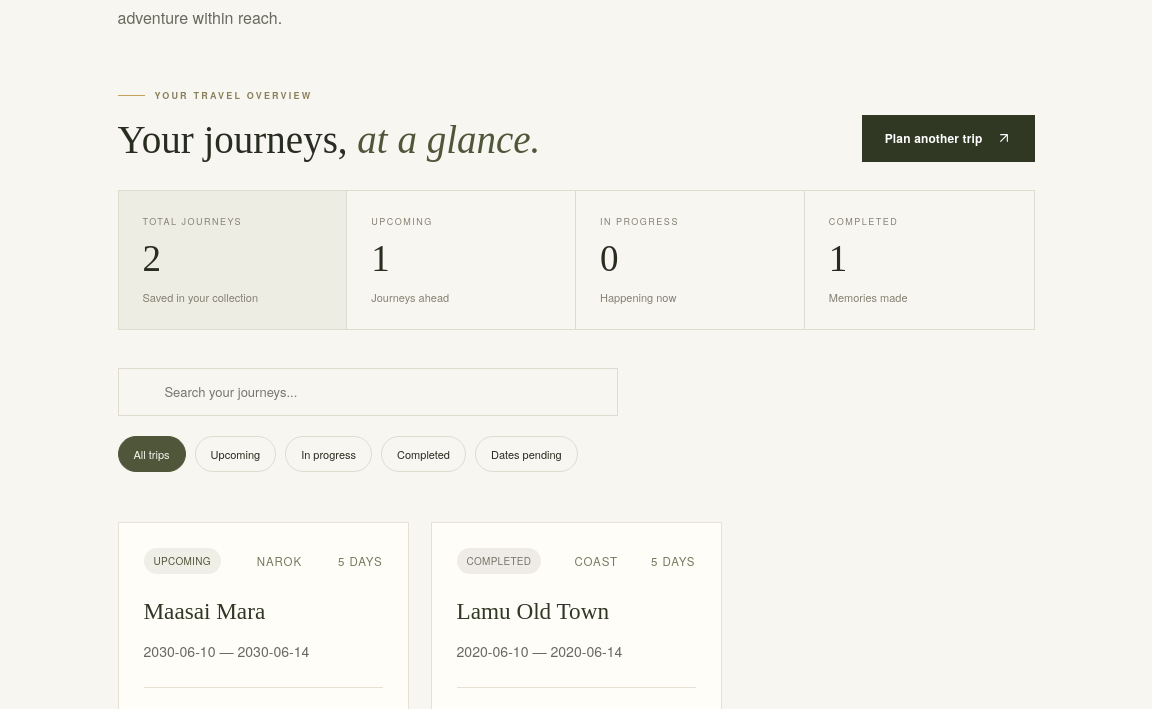
Test: App saved trips › searches and filters saved trips
(page scrolled)
Expected: the heading "Maasai Mara" is shown, [144,598,265,624]
Type "Lamu" into the search field named "search saved trips" at (382, 392), box [162,382,602,402]
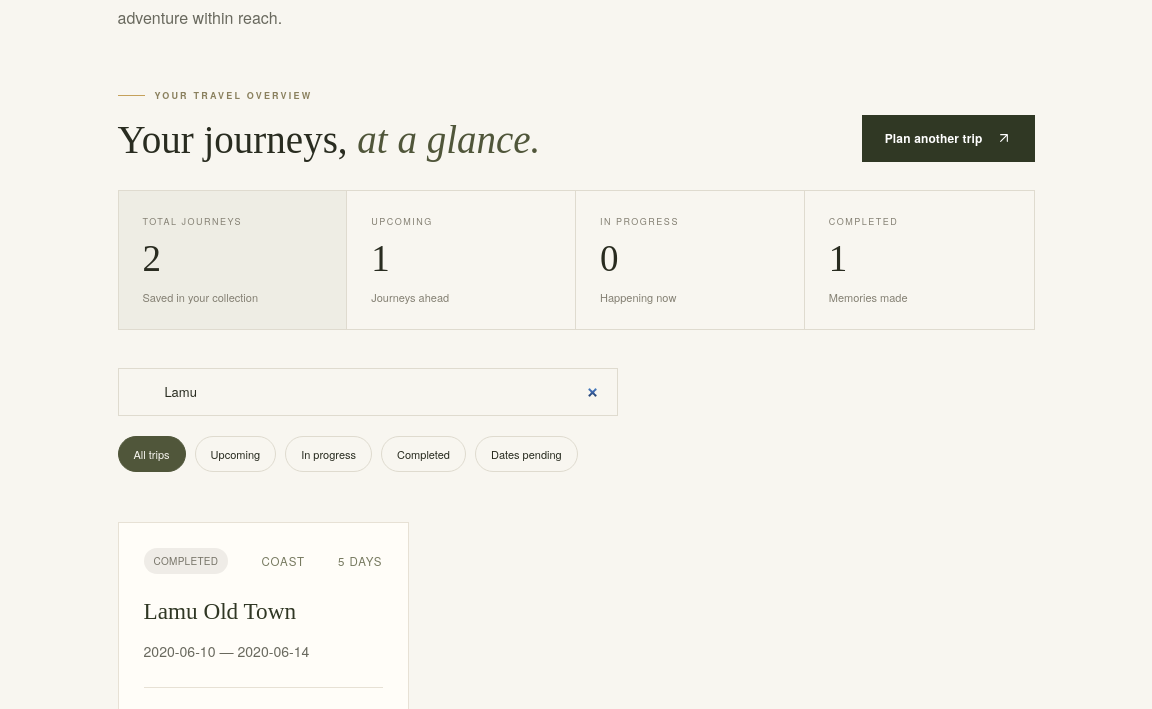
Expected: the heading "Lamu Old Town" is shown, [144,598,296,624]
Now the heading "Maasai Mara" is gone
Clear the search field named "search saved trips" at (382, 392), box [162,382,602,402]
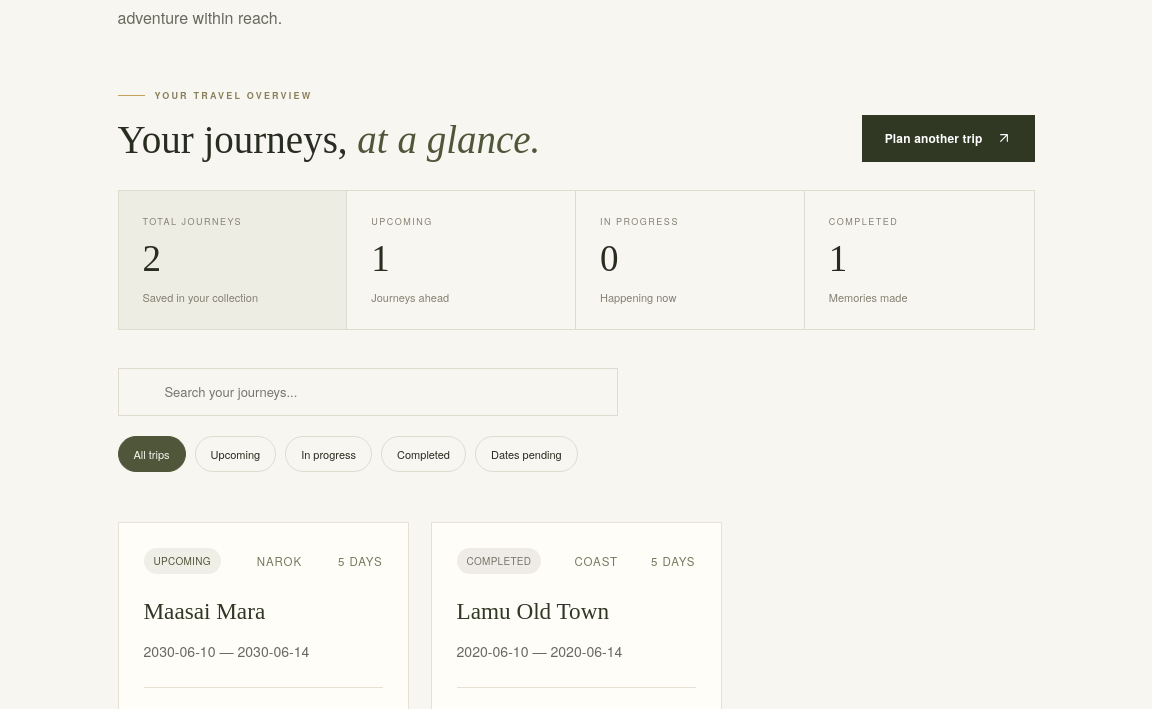
Click the button "Upcoming" at (235, 454), box [195,436,276,472]
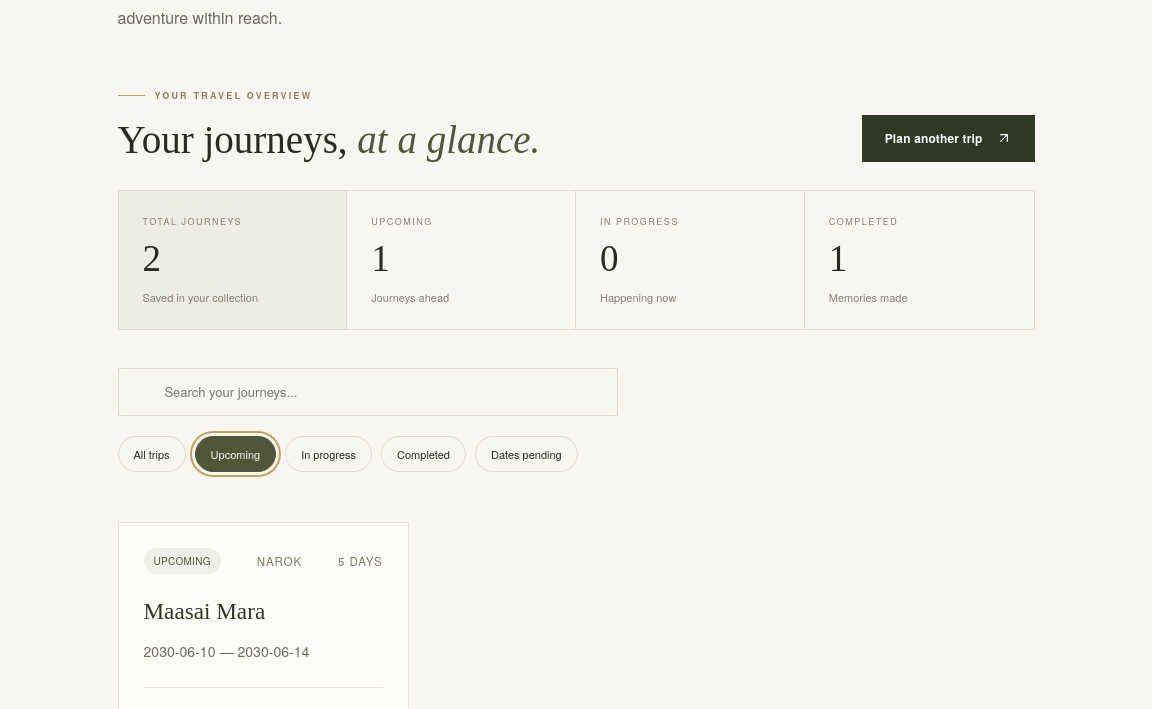
Now the heading "Maasai Mara" is shown, box [144,598,265,624]
Now the heading "Lamu Old Town" is gone
